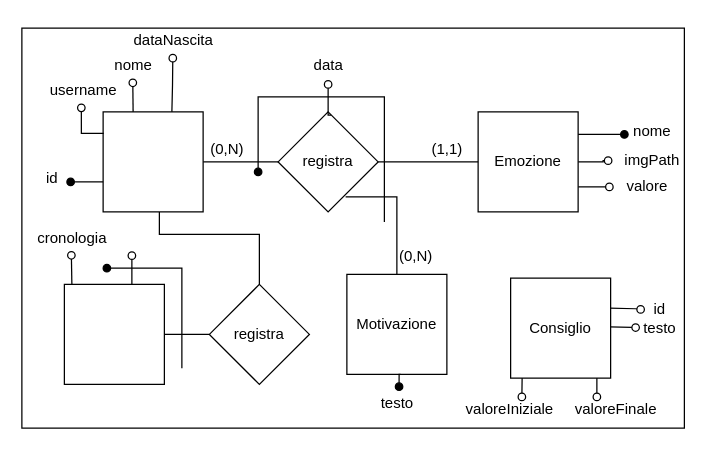
Image size: 718x450. Some labels were removed from this diagram. The shapes that lost their labels are listed below. From the top down, each one's box as (x1, y1, x2, y2) in pixels, then its label:
(102, 111, 203, 212): Utente
(63, 283, 164, 384): Impostazione
